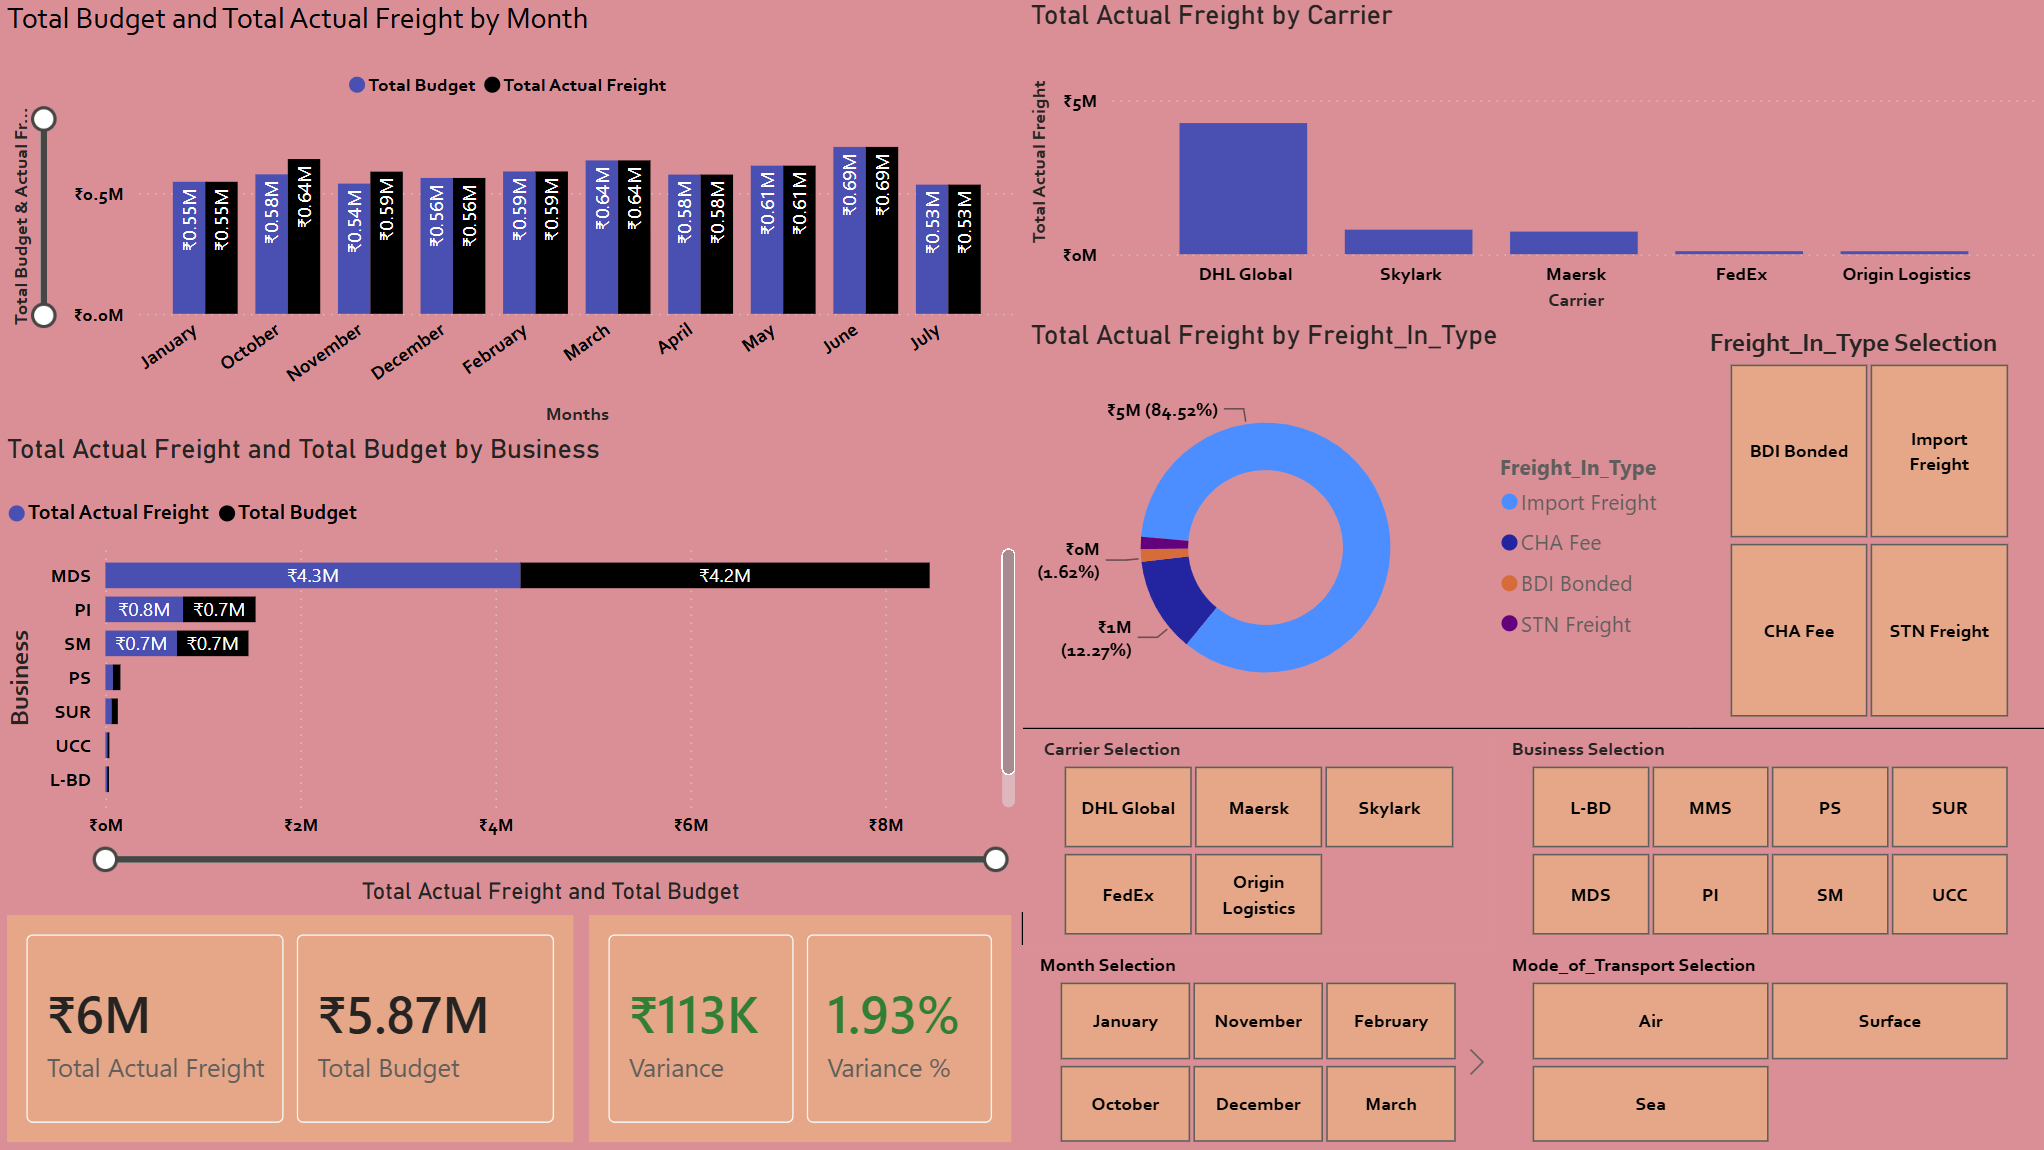

The dashboard page shown, as its layout file describes it:
{"tool":"powerbi","page":{"name":"Overview & KPI","canvas":[1280,720],"ordinal":0},"visuals":[{"type":"clusteredColumnChart","fields":{"Category":["Raw_Data.Month"],"Y":["Raw_Data.Total Budget","Raw_Data.Total Actual Freight"]},"box":[0,0,640,271.2],"z":0},{"type":"cardVisual","fields":{"Data":["Raw_Data.Total Actual Freight","Raw_Data.Total Budget"]},"box":[0,567.1,364.3,152.9],"z":1000},{"type":"cardVisual","fields":{"Data":["Raw_Data.Variance","Raw_Data.Variance %"]},"box":[364.3,567.1,275.7,152.9],"z":2000},{"type":"barChart","fields":{"Category":["Raw_Data.Business"],"Y":["Raw_Data.Total Actual Freight","Raw_Data.Total Budget"]},"box":[0,271.2,640,298.8],"z":3000},{"type":"columnChart","fields":{"Category":["Raw_Data.Carrier"],"Y":["Raw_Data.Total Actual Freight"]},"box":[640,0,640,200],"z":4000},{"type":"donutChart","fields":{"Category":["Raw_Data.Freight_In_Type"],"Y":["Raw_Data.Total Actual Freight"]},"box":[640,200,417.1,255.7],"z":5000},{"type":"slicer","fields":{"Values":["Raw_Data.Month"]},"box":[637.1,591.4,297.1,130],"z":6000},{"type":"slicer","fields":{"Values":["Raw_Data.Business"]},"box":[932.9,455.7,347.1,135.7],"z":7000},{"type":"slicer","fields":{"Values":["Raw_Data.Carrier"]},"box":[640,455.7,292.9,135.7],"z":8000},{"type":"slicer","fields":{"Values":["Raw_Data.Freight_In_Type"]},"box":[1056.7,200,223.3,255.6],"z":9000},{"type":"slicer","fields":{"Values":["Raw_Data.Mode_of_Transport"]},"box":[932.9,591.4,347.1,130],"z":10000}]}

Visuals, with their boxes in screenshot pixels (x1, y1, x2, y2), scaled from the page's 1280x720 canvas onto the 2044x1150 screenshot:
clusteredColumnChart - Raw_Data.Month x Raw_Data.Total Budget: [0,0,1022,433]
cardVisual - Raw_Data.Total Actual Freight x Raw_Data.Total Budget: [0,906,582,1149]
cardVisual - Raw_Data.Variance x Raw_Data.Variance %: [582,906,1022,1149]
barChart - Raw_Data.Business x Raw_Data.Total Actual Freight: [0,433,1022,910]
columnChart - Raw_Data.Carrier x Raw_Data.Total Actual Freight: [1022,0,2043,319]
donutChart - Raw_Data.Freight_In_Type x Raw_Data.Total Actual Freight: [1022,319,1688,728]
slicer - Raw_Data.Month: [1017,945,1492,1149]
slicer - Raw_Data.Business: [1490,728,2043,945]
slicer - Raw_Data.Carrier: [1022,728,1490,945]
slicer - Raw_Data.Freight_In_Type: [1687,319,2043,728]
slicer - Raw_Data.Mode_of_Transport: [1490,945,2043,1149]
